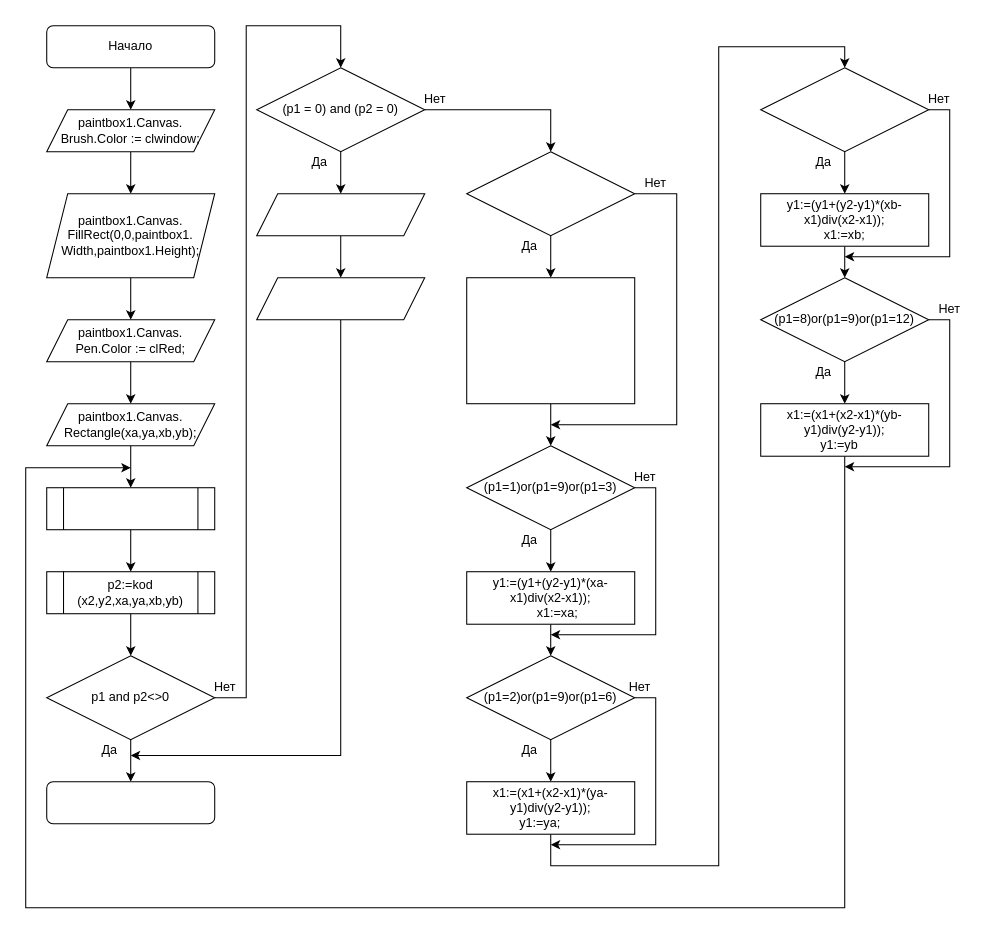
The diagram is 989 pixels wide and 934 high, and some of its shapes have lost their labels. The box of each missing label's shape, as (x1, y1, x2, y2) in pixels:
(p1=4)or(p1=6)or(p1=12): (760, 67, 929, 152)
p1:=kod (x1,y1,xa,ya,xb,yb);: (46, 487, 215, 530)
p1=0: (466, 151, 635, 236)
paintbox1.canvas. line(x1,y1,x2,y2): (256, 277, 425, 320)
paintbox1.Canvas. Pen.Color := clblack: (256, 193, 425, 236)
x:=x1; x1:=x2; x2:=x; y:=y1; y1:=y2; y2:=y; p1:=p2;: (466, 277, 635, 404)
Конец: (46, 781, 215, 824)
